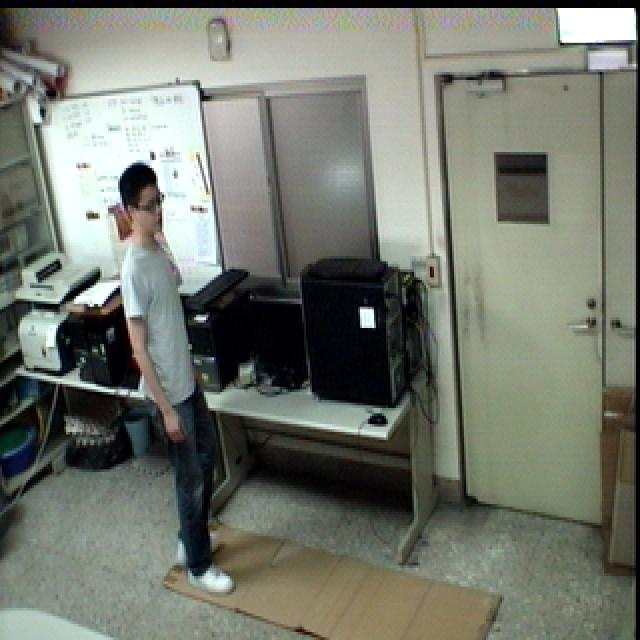stand: (109, 157, 248, 604)
